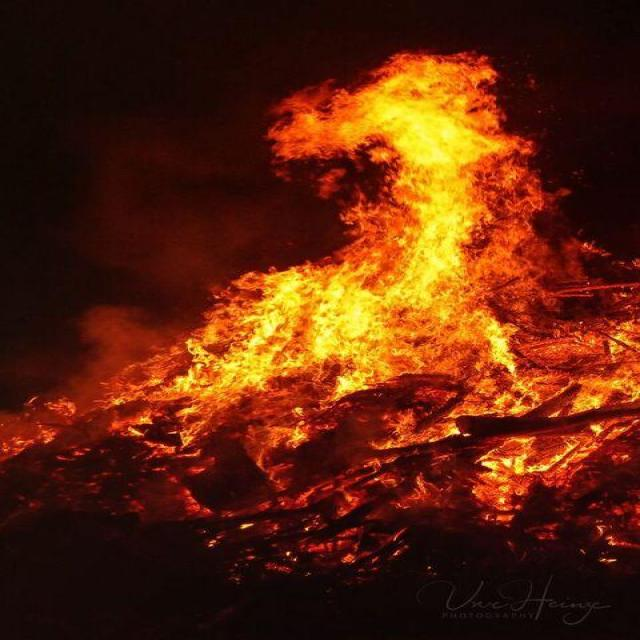fire: (278, 43, 537, 366), (194, 265, 293, 407)
